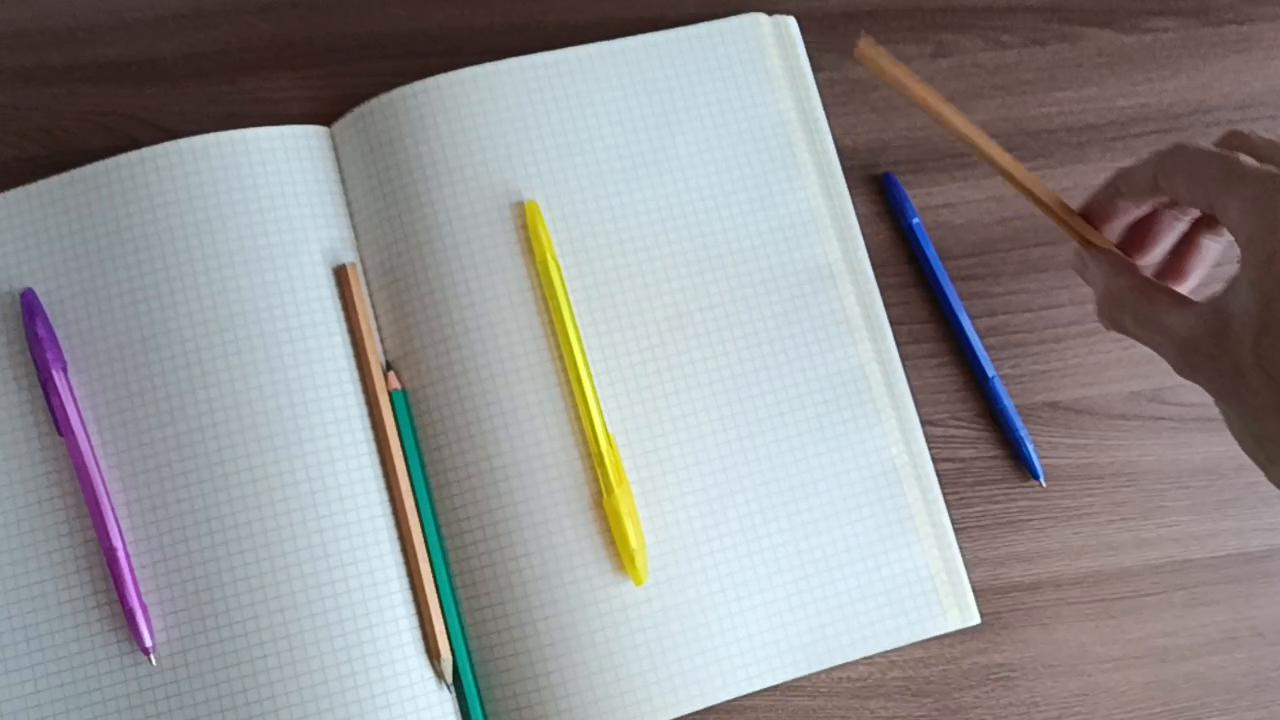pen: (10, 279, 164, 672), (514, 190, 656, 595), (879, 170, 1053, 496)
pencil: (847, 26, 1146, 283), (324, 260, 455, 695), (383, 360, 487, 720)
